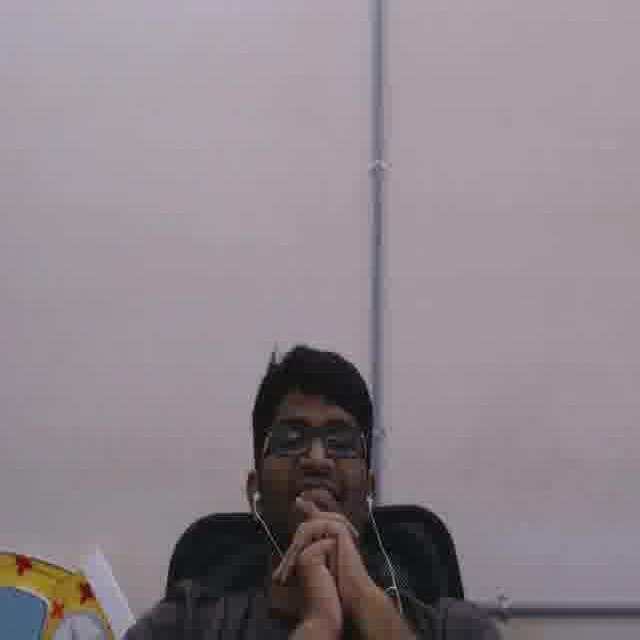Engaged: (264, 387, 363, 542)
